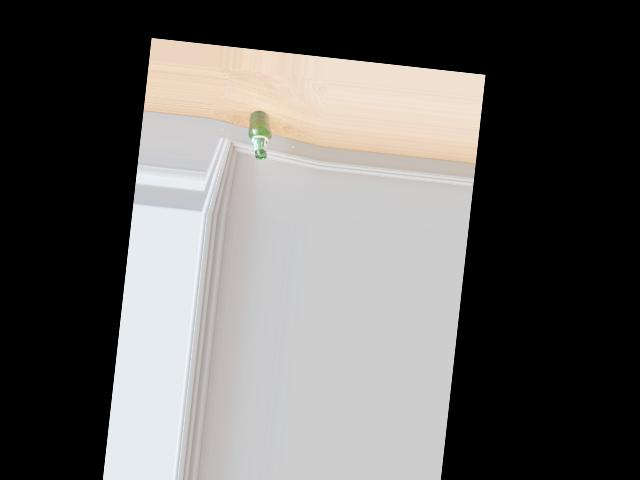beer: (245, 109, 274, 160)
